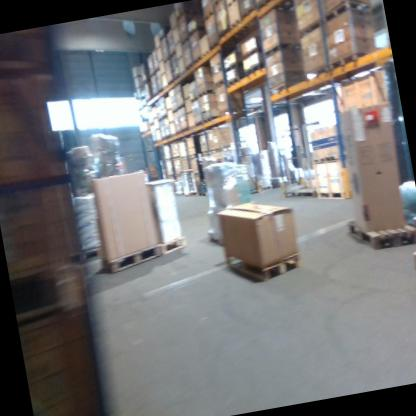pallet: (8, 251, 90, 322), (224, 237, 304, 285), (344, 208, 416, 256), (99, 242, 166, 277), (320, 0, 375, 27), (329, 50, 375, 75), (260, 36, 301, 61), (268, 77, 308, 101), (303, 61, 332, 84), (297, 16, 322, 39), (315, 185, 345, 204), (160, 235, 188, 255), (79, 245, 105, 264), (312, 152, 342, 166), (237, 45, 264, 59), (291, 186, 316, 201), (243, 62, 267, 77), (222, 59, 243, 74), (216, 106, 244, 117), (239, 4, 257, 20), (176, 7, 200, 19), (225, 74, 247, 87), (206, 38, 221, 54), (217, 24, 232, 40), (188, 24, 205, 38), (254, 0, 275, 11), (197, 87, 216, 98), (229, 16, 243, 29), (203, 8, 216, 22), (211, 78, 226, 89), (183, 58, 195, 71), (410, 250, 416, 274), (202, 115, 218, 124), (259, 183, 273, 192), (225, 0, 239, 9), (179, 35, 190, 46), (200, 50, 212, 60), (183, 190, 197, 198), (212, 0, 226, 8), (192, 54, 203, 64), (196, 189, 208, 197), (168, 49, 177, 59), (173, 39, 181, 49), (190, 95, 199, 103), (193, 120, 202, 128), (188, 124, 197, 132), (176, 103, 185, 111), (187, 152, 197, 159), (181, 125, 189, 133), (161, 82, 169, 90), (167, 78, 175, 86), (185, 109, 194, 116), (180, 154, 188, 161), (183, 95, 191, 102), (167, 118, 175, 125), (157, 57, 164, 65), (176, 129, 185, 135), (176, 55, 183, 62), (172, 155, 180, 161), (164, 157, 172, 163), (171, 130, 177, 136), (172, 107, 178, 113), (166, 106, 173, 111), (175, 172, 181, 177)
